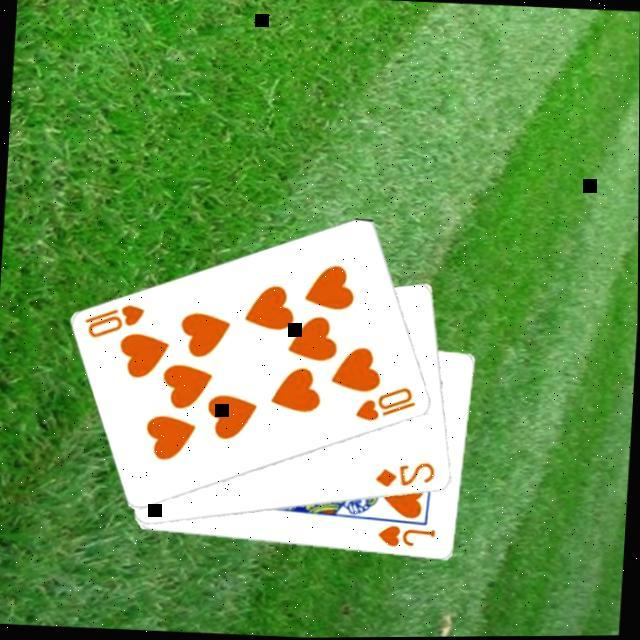10H: (354, 384, 421, 430), (82, 302, 150, 346)
2D: (373, 460, 440, 494)
JH: (376, 524, 439, 554)
